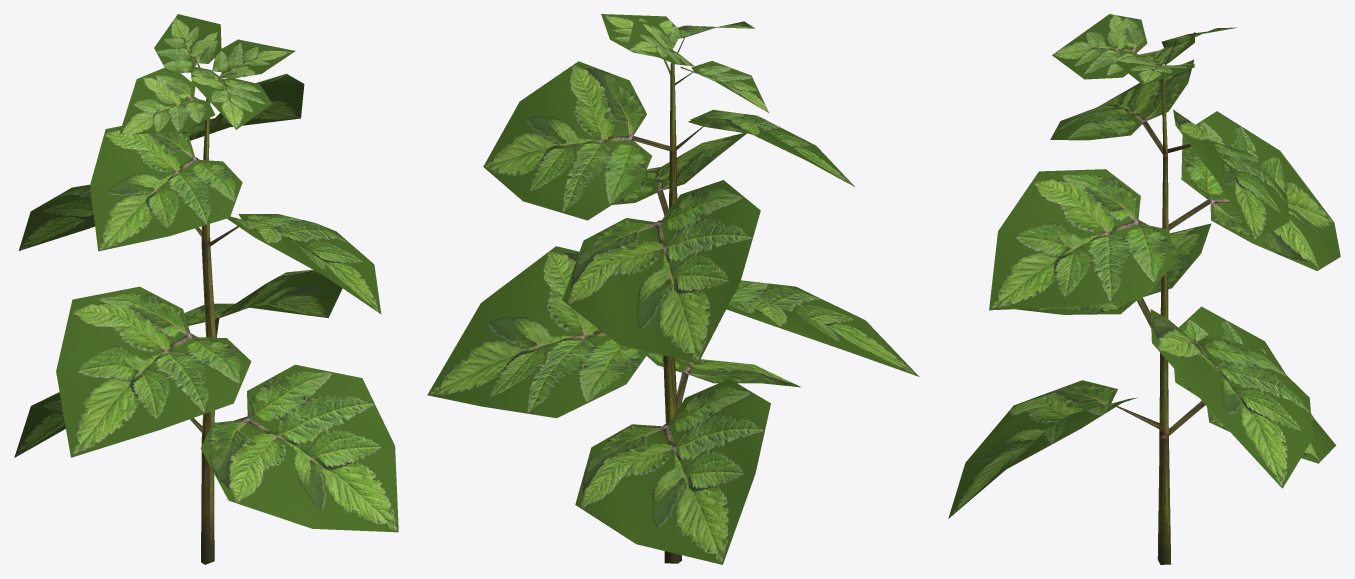
The model's file is Spanishneedles.FBX.
3 renders of one model, left to right at view 1: azimuth 30°, elevation 25°; view 2: azimuth 150°, elevation 25°; view 3: azimuth 270°, elevation 25°, orthographic. The views are drawn at different scales.
Visible parts, largest first — view 1: Spanishneedles; view 2: Spanishneedles; view 3: Spanishneedles.
Boxes of the visible parts, x1,y1,x2,y2 form: Spanishneedles: (14,14,398,564); Spanishneedles: (427,14,919,564); Spanishneedles: (948,14,1340,564).
Size of the model in its own units: 68.05 by 93.09 by 61.23.
